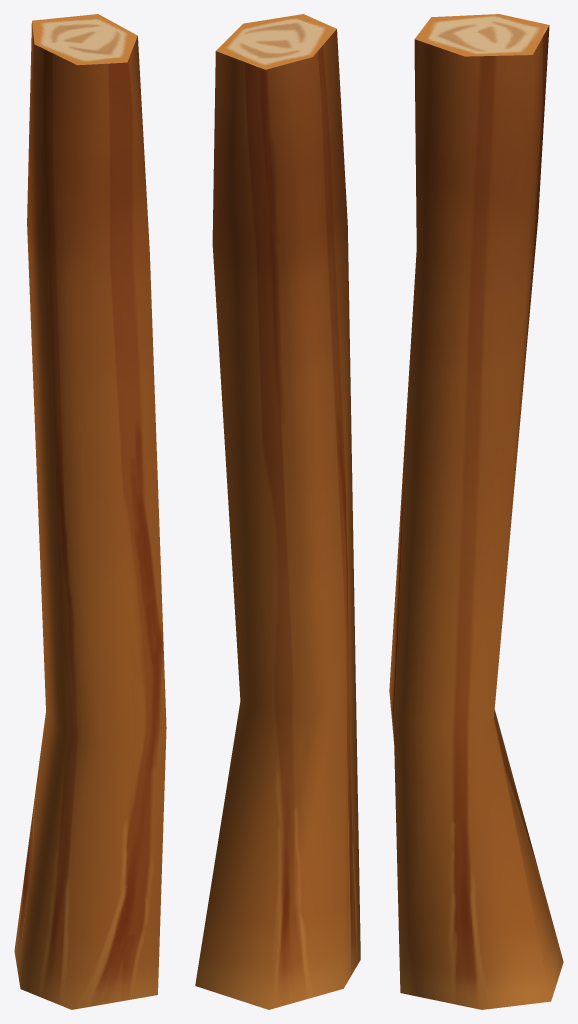
Rendered from port_fence2_post.fbx.
The picture shows the model from 3 angles, left to right: view 1: azimuth 30°, elevation 25°; view 2: azimuth 150°, elevation 25°; view 3: azimuth 270°, elevation 25°; orthographic projection.
Visible parts, largest first — view 1: port_fence2_post; view 2: port_fence2_post; view 3: port_fence2_post.
Boxes of the visible parts, x1,y1,x2,y2 form: port_fence2_post: (14,14,166,1009); port_fence2_post: (195,14,360,1009); port_fence2_post: (389,14,563,1009).
Size of the model in its own units: 52.82 by 359 by 60.09.
